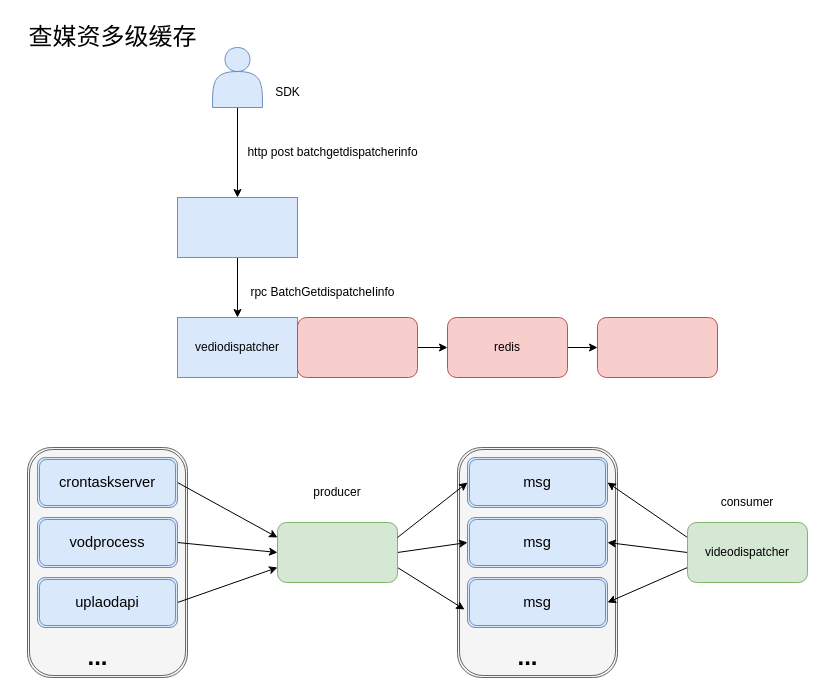
Image size: 825x695. Some labels were removed from this diagram. Here are the shapes that lost their labels. From the top down, the box of each, then its label:
(176, 196, 298, 258): vedioApi
(296, 316, 418, 378): local cache
(596, 316, 718, 378): rpc mediamanager
(276, 522, 398, 582): mediamanager
